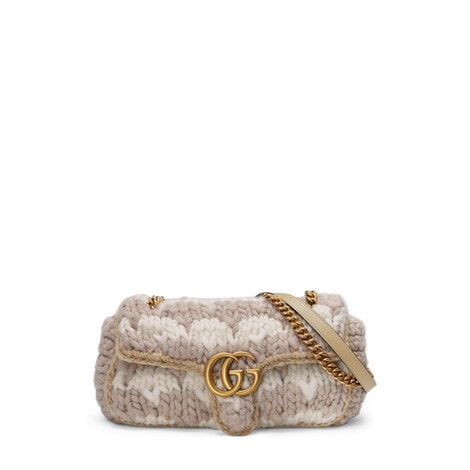Gucci: (91, 290, 378, 432), (204, 343, 260, 402)
